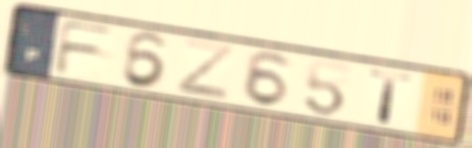5: (302, 56, 355, 118)
6: (239, 49, 294, 109), (119, 30, 171, 91)
F: (51, 19, 120, 77)
T: (367, 67, 415, 127)
Z: (173, 37, 237, 102)
